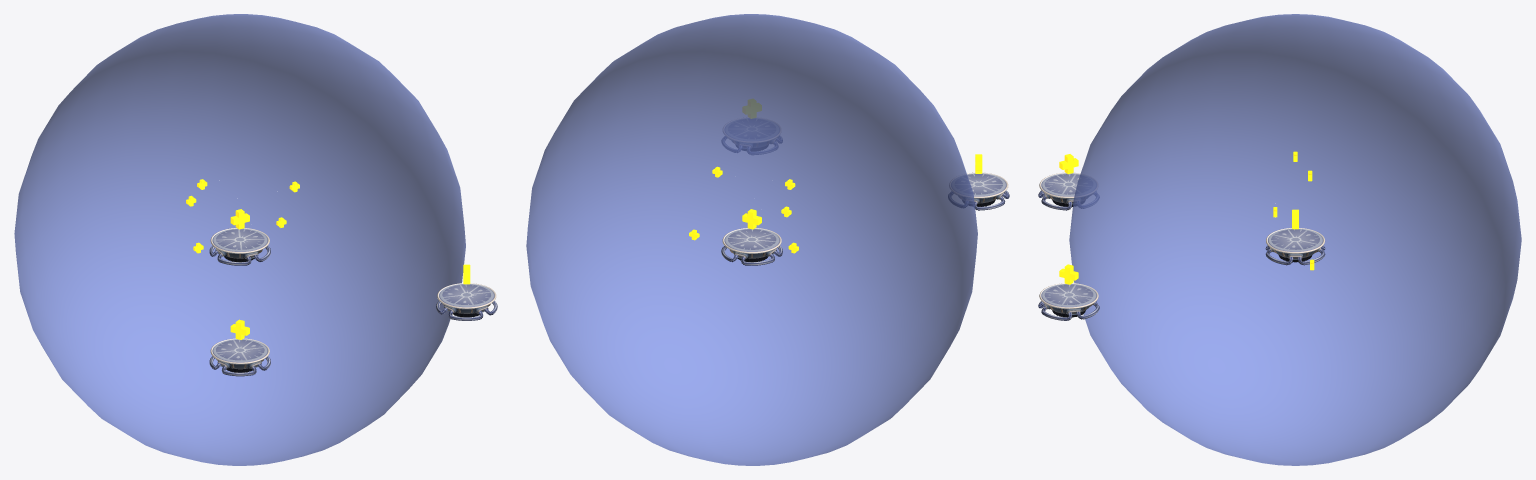
File: BTLMN_LemonPlatforms.glb
The picture shows the model from 3 angles, left to right: view 1: azimuth 30°, elevation 25°; view 2: azimuth 150°, elevation 25°; view 3: azimuth 270°, elevation 25°; orthographic projection.
Visible parts, largest first — view 1: Background_Sphere, Platform_2, Platform_3, Platform_1; view 2: Background_Sphere, Platform_1, Platform_2, Platform_3; view 3: Background_Sphere, Platform_3, Platform_1, Platform_2.
Boxes of the visible parts, left/top/right/bottom form: Background_Sphere: left=14, top=14, right=465, bottom=465; Platform_2: left=209, top=338, right=270, bottom=376; Platform_3: left=436, top=283, right=497, bottom=320; Platform_1: left=209, top=228, right=270, bottom=265; Background_Sphere: left=526, top=14, right=977, bottom=465; Platform_1: left=721, top=228, right=782, bottom=265; Platform_2: left=948, top=172, right=1009, bottom=210; Platform_3: left=722, top=118, right=782, bottom=154; Background_Sphere: left=1069, top=14, right=1521, bottom=465; Platform_3: left=1038, top=283, right=1099, bottom=320; Platform_1: left=1265, top=228, right=1325, bottom=265; Platform_2: left=1038, top=172, right=1099, bottom=210.
Size of what is drawn, in the model's own units: 1498 by 1498 by 1601.
Materials: 6 (3 with a texture image).
